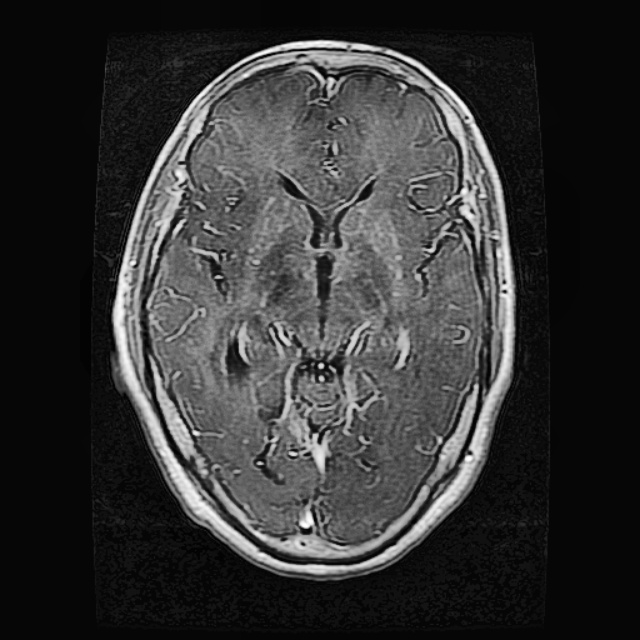Glioma: (214, 323, 252, 377)
